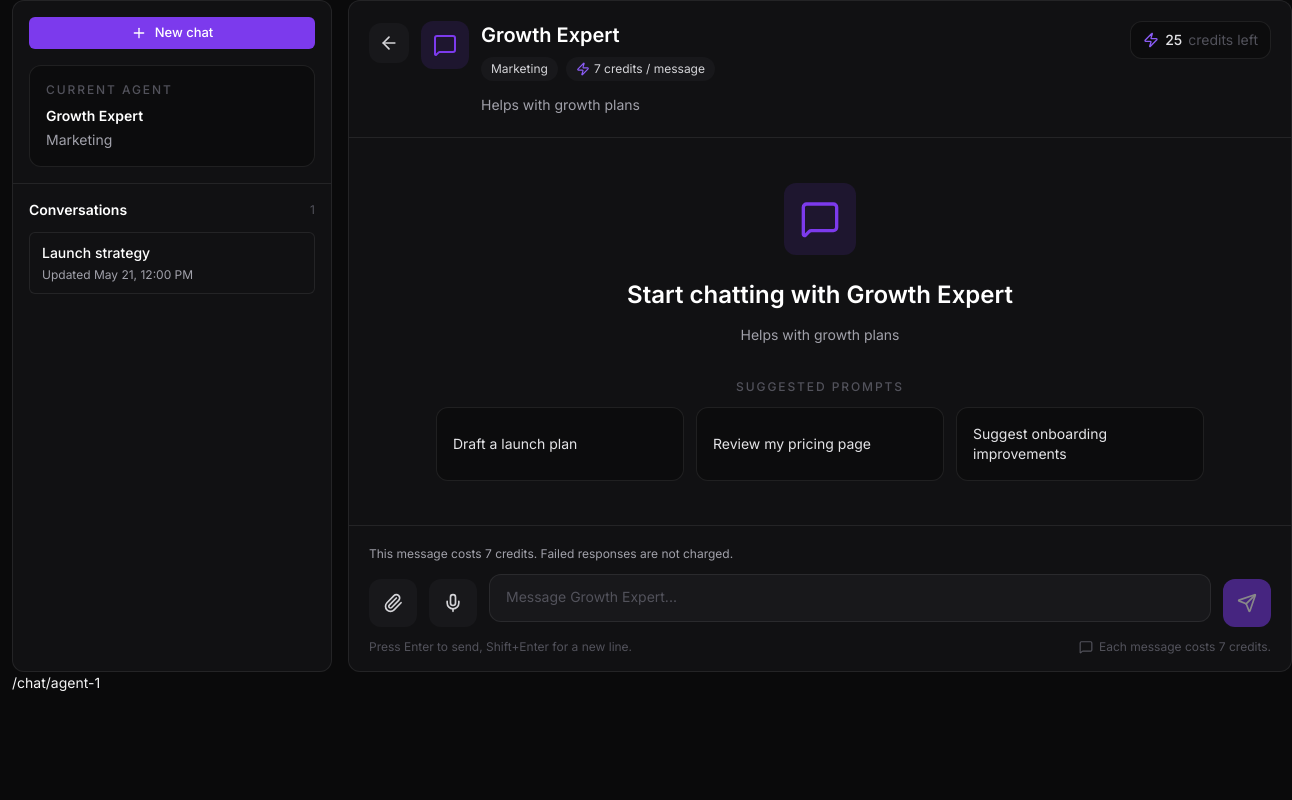
Scenario: ChatPage › shows a welcome workspace when there is no conversationId and suggested prompts fill the composer
Check: the heading "Start chatting with Growth Expert" is shown, box [627,278,1013,310]
Check: the button "New chat" is shown, box [29,17,315,49]
What coordinates should you click on to do the following:
click the button with aria-label "Use suggested prompt: Draft a launch plan"
I would click on:
 (560, 444)
Its box is [436,406,684,480].
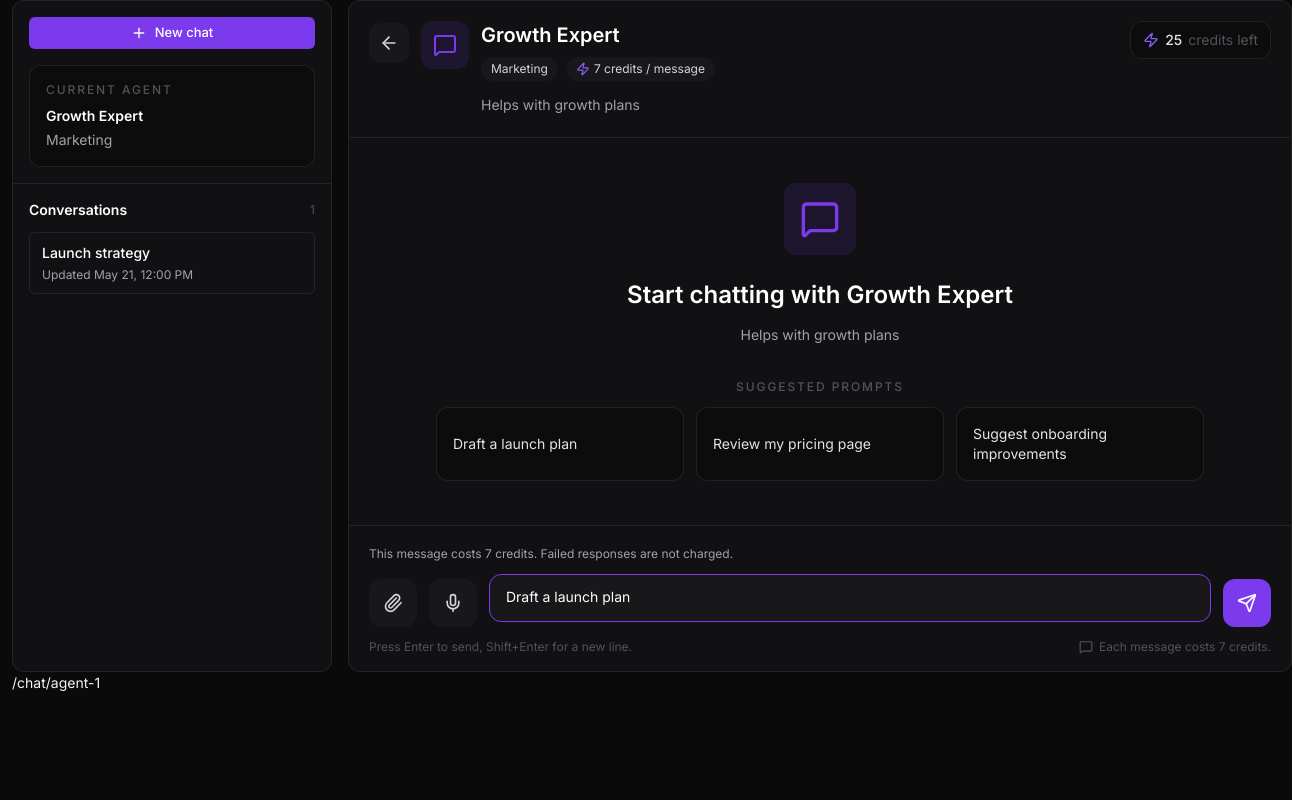
Check: the text box holds "Draft a launch plan", box [489,574,1211,622]
